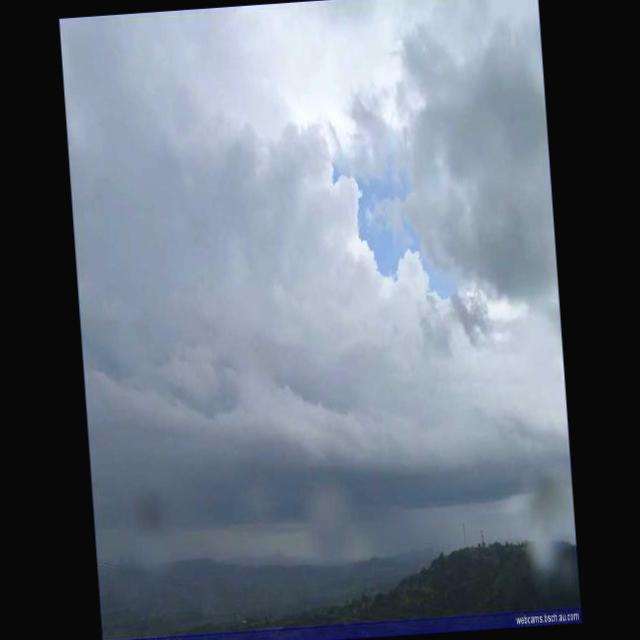cumulonimbus: (63, 0, 577, 571)
